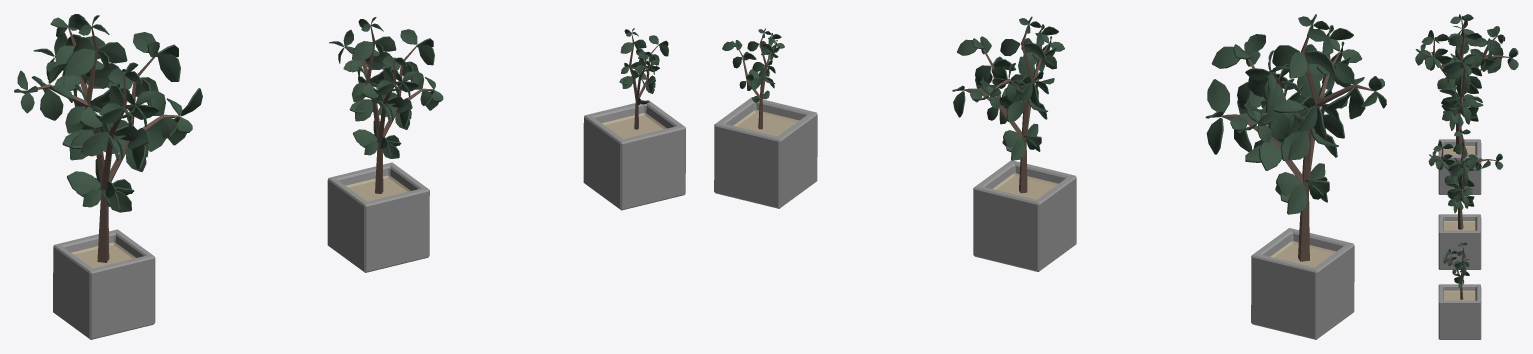
Rendered from plant.FBX.
3 views of the same model, side by side, from view 1: azimuth 30°, elevation 25°; view 2: azimuth 150°, elevation 25°; view 3: azimuth 270°, elevation 25° (orthographic). The views are drawn at different scales.
Parts seen in each view (by area): view 1: plant_3, plant_2, plant_1; view 2: plant_3, plant_2, plant_1; view 3: plant_3, plant_2, plant_1.
Part boxes in pixels (box(x1,y1,x2,y2)): plant_3: box(14, 14, 202, 339); plant_2: box(327, 17, 443, 272); plant_1: box(583, 28, 685, 210); plant_3: box(1205, 14, 1386, 339); plant_2: box(952, 16, 1076, 271); plant_1: box(714, 28, 817, 208); plant_3: box(1415, 14, 1518, 194); plant_2: box(1428, 129, 1503, 269); plant_1: box(1438, 242, 1481, 339).
Bounding box in the file's own units: 85.58 × 21.04 × 37.9.
